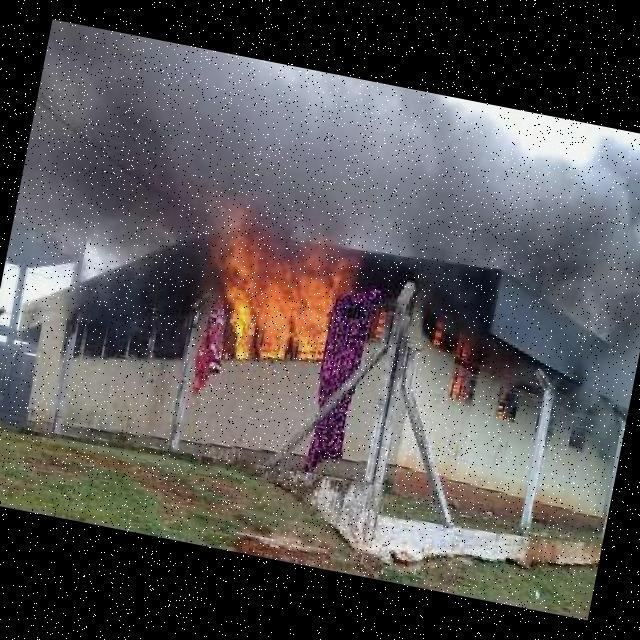Fire: (185, 198, 365, 386)
Smoke: (13, 18, 457, 303), (397, 101, 640, 439)
